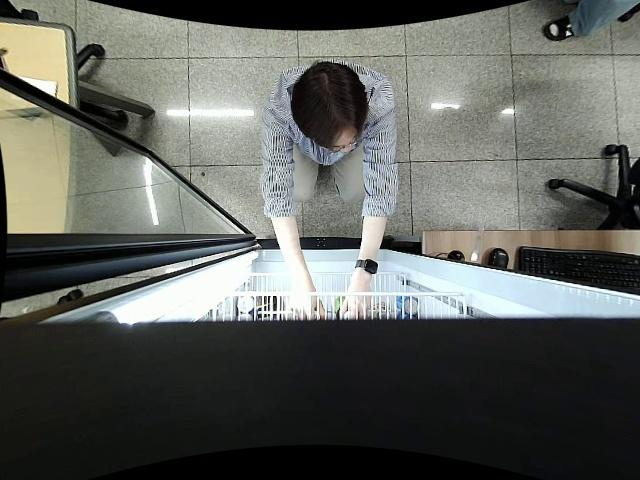00_hand: (289, 281, 326, 321), (338, 286, 372, 323)
